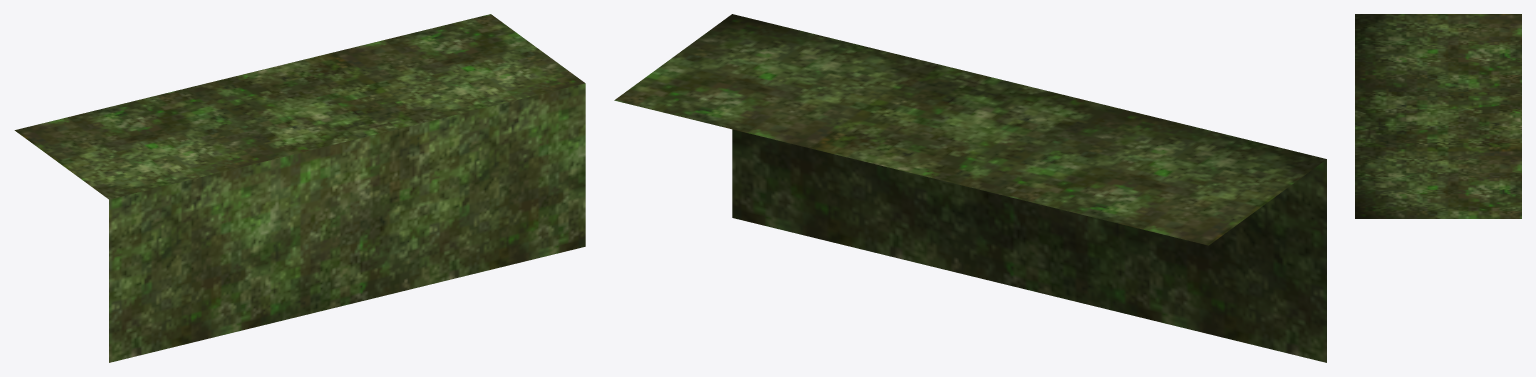
Rendered from OVERHILL_A_01_OBJECT78.fbx.
The picture shows the model from 3 angles, left to right: view 1: azimuth 30°, elevation 25°; view 2: azimuth 150°, elevation 25°; view 3: azimuth 270°, elevation 25°; orthographic projection. The views are drawn at different scales.
Visible parts, largest first — view 1: OVERHILL_A_01_OBJECT78; view 2: OVERHILL_A_01_OBJECT78; view 3: OVERHILL_A_01_OBJECT78.
Boxes of the visible parts, x1,y1,x2,y2 form: OVERHILL_A_01_OBJECT78: (14, 14, 585, 362); OVERHILL_A_01_OBJECT78: (614, 14, 1326, 362); OVERHILL_A_01_OBJECT78: (1355, 14, 1521, 218).
Size of the model in its own units: 48951 by 16035 by 16852.
1 material, 1 textured.
